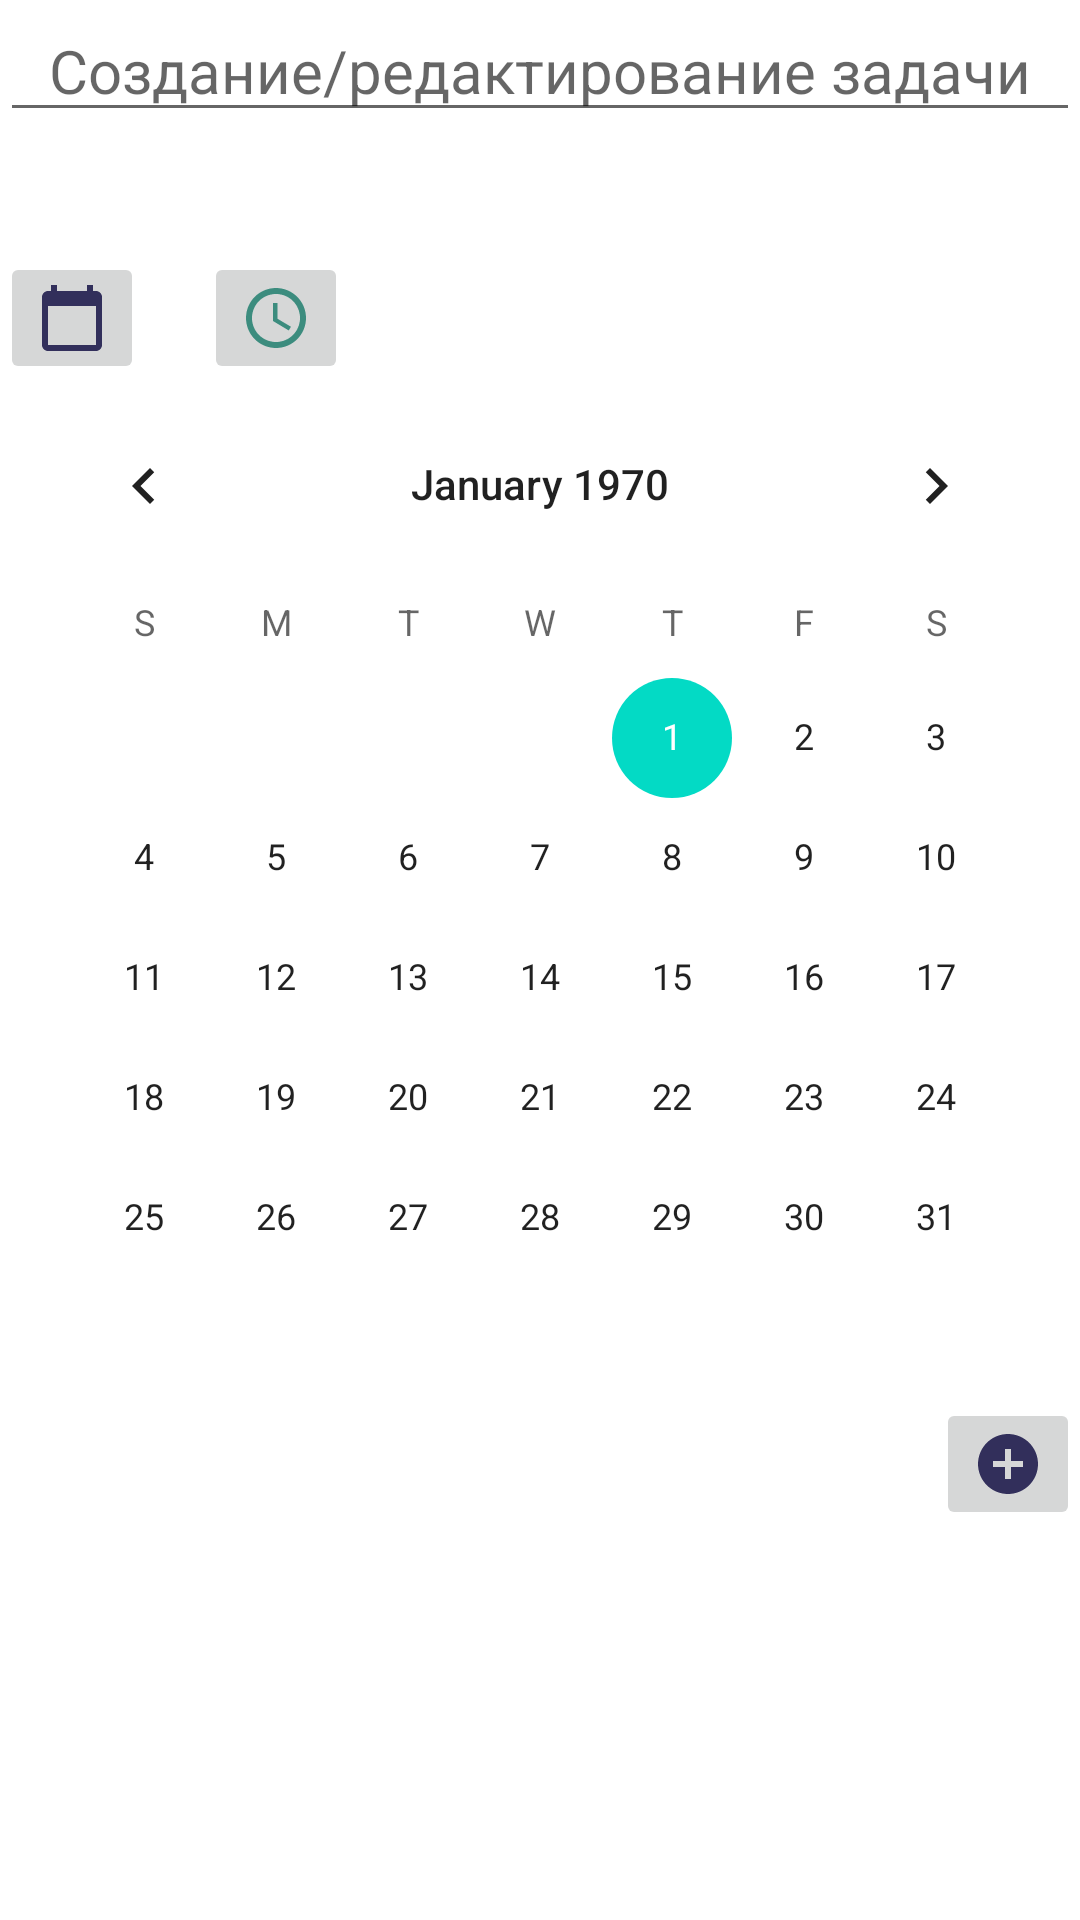

Where icons sit on this 1080*1920 app screen, as (x1, y1, x2, y2):
add: (948, 1416, 1068, 1512)
calendar: (12, 270, 132, 366)
clock: (216, 270, 336, 366)
